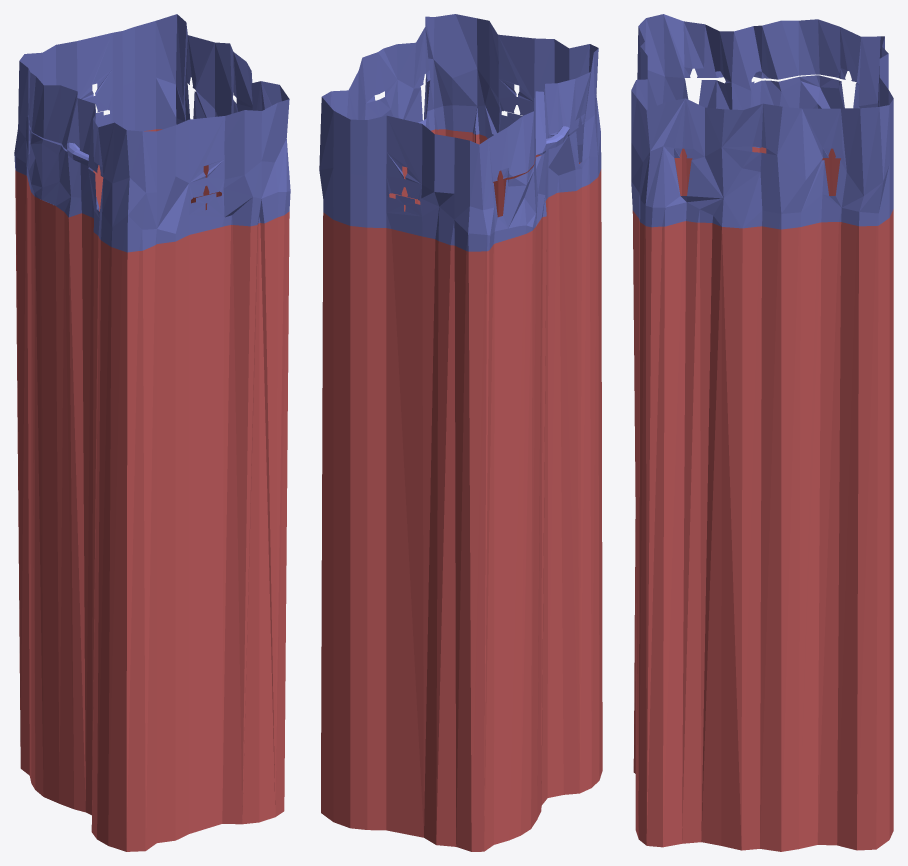
File: level_collision_stone.fbx
3 renders of one model, left to right at view 1: azimuth 30°, elevation 25°; view 2: azimuth 150°, elevation 25°; view 3: azimuth 270°, elevation 25°, orthographic. The views are drawn at different scales.
Parts seen in each view (by area): view 1: level_collision_stone; view 2: level_collision_stone; view 3: level_collision_stone.
Part boxes in pixels (x1,y1,x2,y2): level_collision_stone: (14, 14, 290, 851); level_collision_stone: (319, 14, 602, 851); level_collision_stone: (631, 14, 893, 851).
Size of the model in its own units: 1102063 by 4149363 by 1316737.
